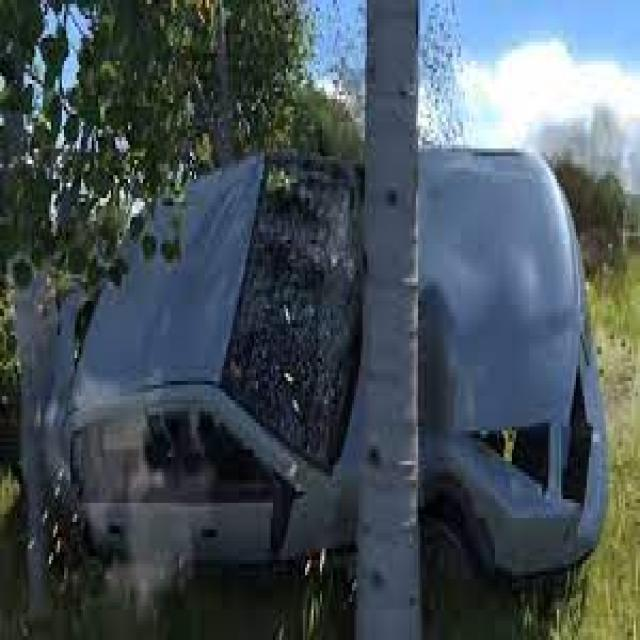severe: (37, 121, 613, 616)
